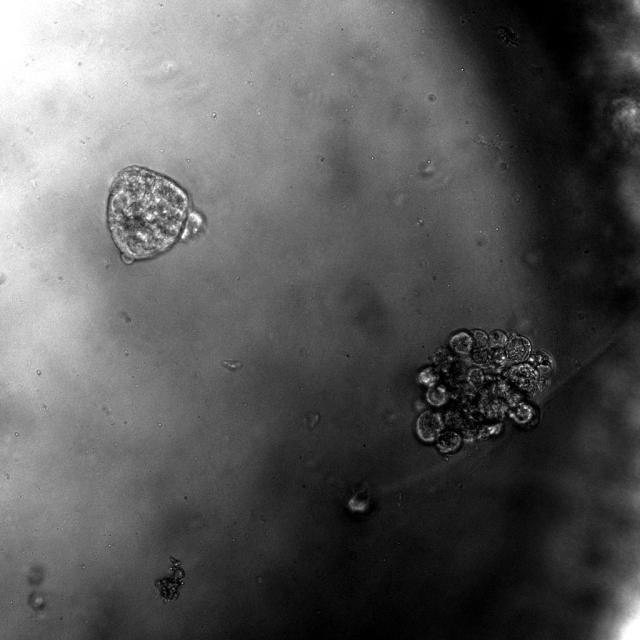organoid: (415, 329, 553, 455), (107, 165, 205, 264), (154, 557, 185, 601), (27, 564, 48, 617), (344, 483, 373, 519)
